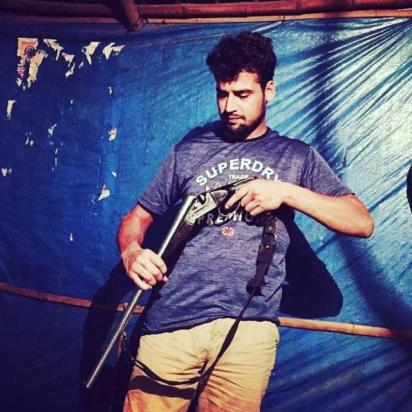Gun: (78, 174, 284, 394)
